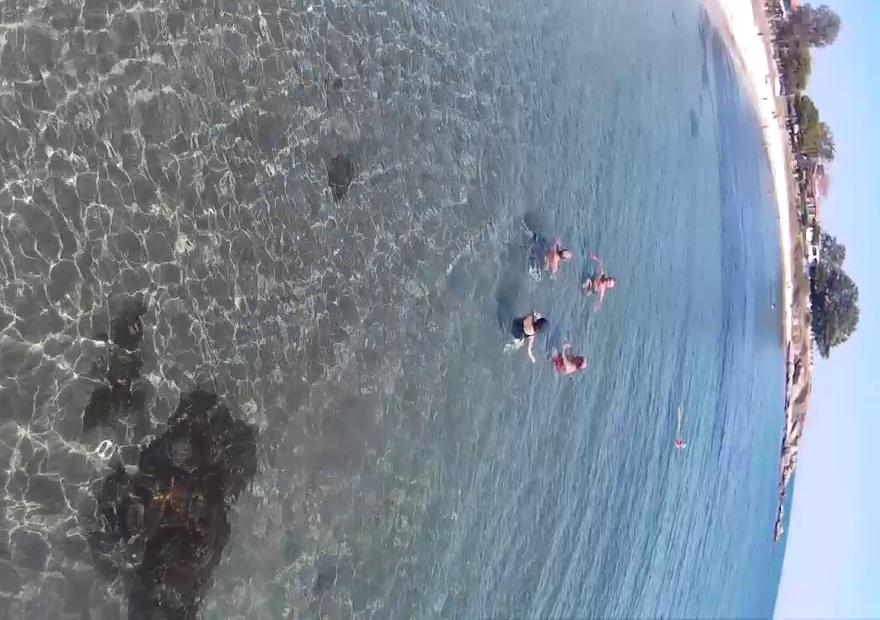swimmer: (526, 220, 579, 284), (579, 254, 631, 312), (510, 292, 550, 360), (546, 341, 590, 386)
